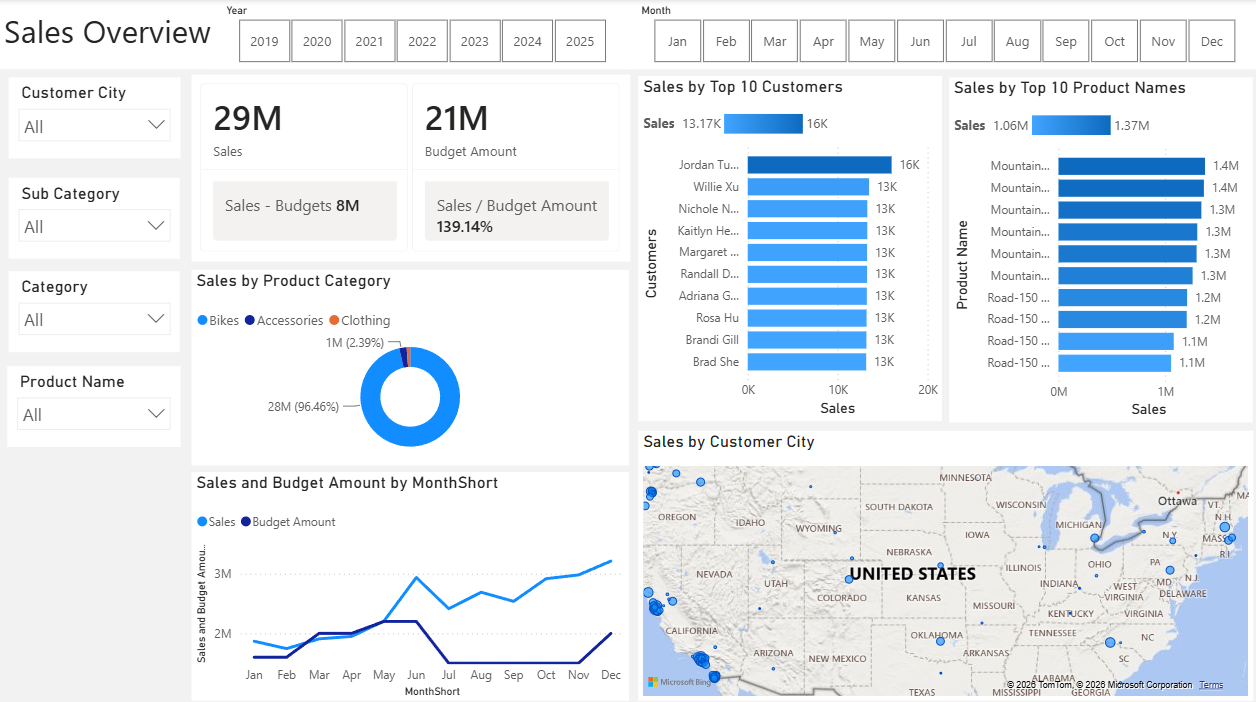

Layout of this report page (visuals, bound fields, positions):
{"tool":"powerbi","page":{"name":"Sales Overview","canvas":[1280,720],"ordinal":0},"visuals":[{"type":"textbox","box":[0,0,1280.7,71.2],"z":0},{"type":"slicer","fields":{"Values":["DIM_Customers.Customer City"]},"box":[9.8,79.6,174.6,82.4],"z":1000},{"type":"slicer","fields":{"Values":["DIM_Products.Sub Category"]},"box":[9.7,182.1,174.1,82.2],"z":2000},{"type":"slicer","fields":{"Values":["DIM_Products.Product Category"]},"box":[9.7,277.2,174.1,82.2],"z":3000},{"type":"slicer","fields":{"Values":["DIM_Products.Product Name"]},"box":[8.1,372.3,175.7,82.2],"z":4000},{"type":"slicer","fields":{"Values":["DIM_Calendar.Year"]},"box":[217.6,0,422.3,70.9],"z":5000},{"type":"slicer","fields":{"Values":["DIM_Calendar.MonthShort"]},"box":[639.9,0,639.9,70.9],"z":6000},{"type":"cardVisual","title":"Sales & Budget Amount","fields":{"Data":["FACT_InternetSales.Sales","FACT_Budget.Budget Amount"]},"box":[195.5,76.8,445.5,189.9],"z":7000},{"type":"donutChart","fields":{"Category":["DIM_Products.Product Category"],"Y":["Key Measures.Sales"]},"box":[195.5,275.1,444.1,198.3],"z":8000},{"type":"lineChart","fields":{"Y":["Key Measures.Sales","Key Measures.Budget Amount"],"Category":["DIM_Calendar.MonthShort"]},"box":[195.5,480.4,444.1,233.2],"z":9000},{"type":"barChart","title":"Sales by Top 10 Customers","fields":{"Y":["Key Measures.Sales"],"Category":["DIM_Customers.Full Name"]},"box":[649.4,78.2,308.7,350.6],"z":10000},{"type":"barChart","title":"Sales by Top 10 Product Names","fields":{"Y":["Key Measures.Sales"],"Category":["DIM_Products.Product Name"]},"box":[965.1,79.6,308.7,350.6],"z":11000},{"type":"map","fields":{"Category":["DIM_Customers.Customer City"],"Size":["Key Measures.Sales"]},"box":[649.4,438.5,624.3,275.1],"z":12000}]}

Visuals, with their boxes in screenshot pixels (x1, y1, x2, y2), scaled from the page's 1280x720 canvas onto the 1256x702 screenshot:
textbox: [0,0,1255,69]
slicer - DIM_Customers.Customer City: [10,78,181,158]
slicer - DIM_Products.Sub Category: [10,178,180,258]
slicer - DIM_Products.Product Category: [10,270,180,350]
slicer - DIM_Products.Product Name: [8,363,180,443]
slicer - DIM_Calendar.Year: [214,0,628,69]
slicer - DIM_Calendar.MonthShort: [628,0,1255,69]
"Sales & Budget Amount" cardVisual: [192,75,629,260]
donutChart - DIM_Products.Product Category x Key Measures.Sales: [192,268,628,462]
lineChart - Key Measures.Sales x Key Measures.Budget Amount: [192,468,628,696]
"Sales by Top 10 Customers" barChart: [637,76,940,418]
"Sales by Top 10 Product Names" barChart: [947,78,1250,419]
map - DIM_Customers.Customer City x Key Measures.Sales: [637,428,1250,696]
